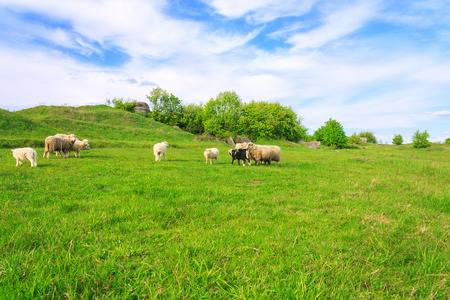sheep: (245, 141, 281, 166), (44, 133, 77, 158), (9, 147, 40, 168), (150, 138, 172, 162), (226, 148, 248, 166), (201, 146, 220, 166), (77, 134, 93, 155)
